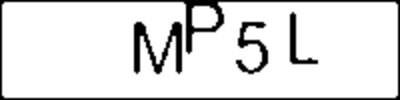5: (232, 18, 274, 75)
L: (286, 10, 322, 68)
M: (128, 18, 185, 77)
P: (184, 1, 225, 59)
